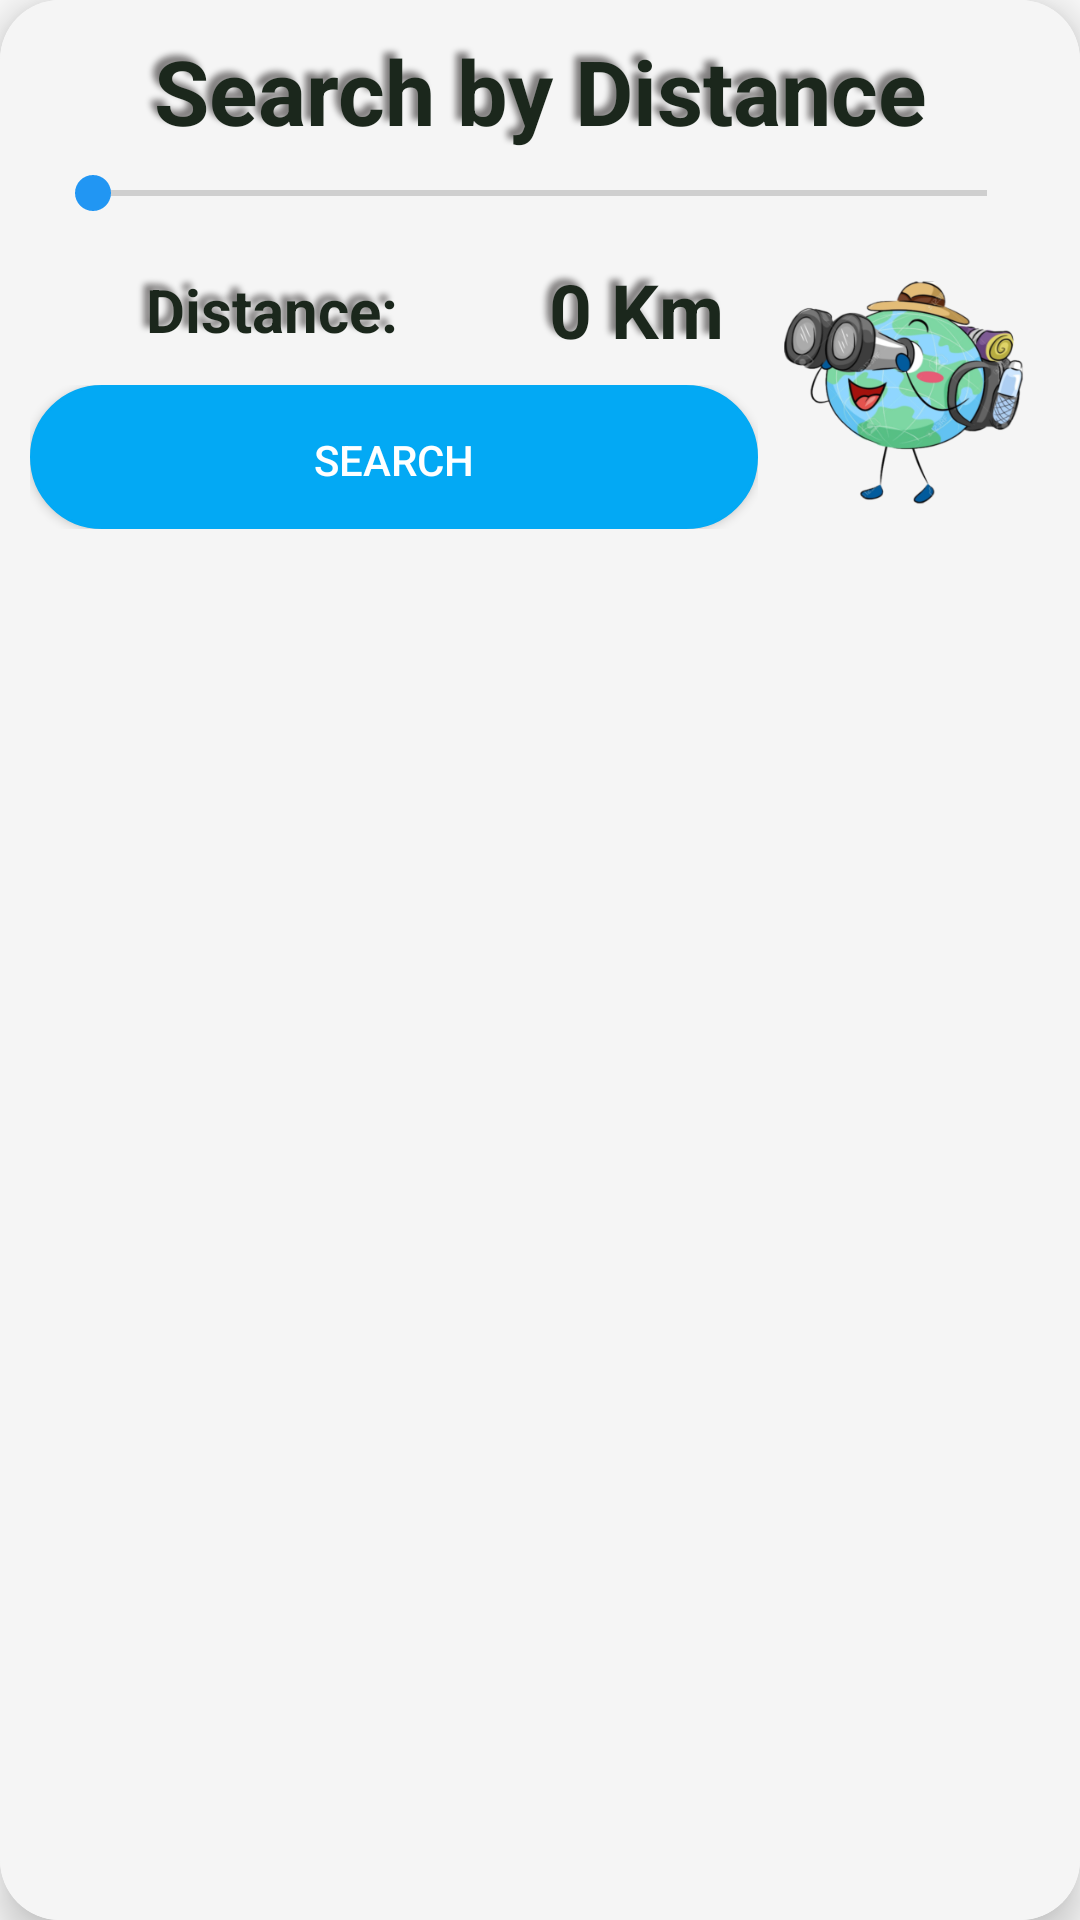

Named icons in this screenshot (1080px×1920px) and their centers, (x=x, y=y):
world: (x=903, y=392)
